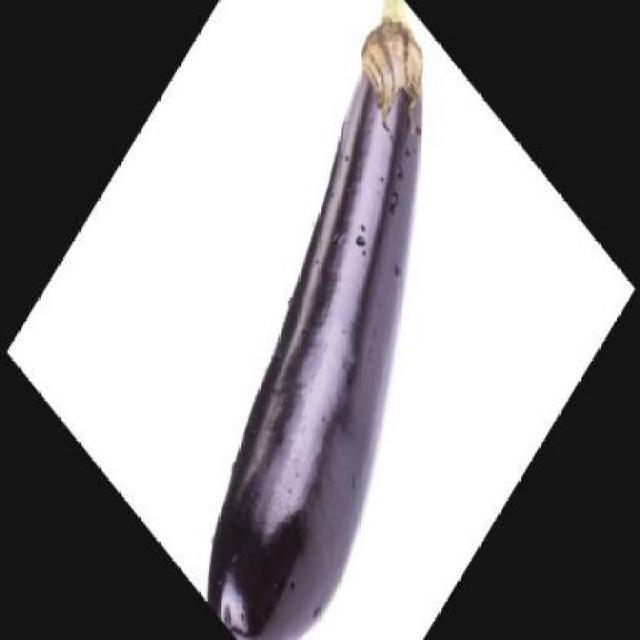eggplant: (198, 0, 431, 629)
